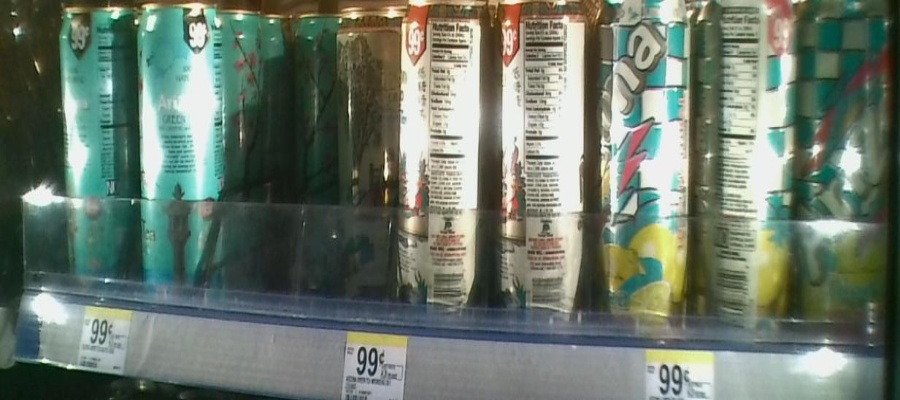bottle: (488, 1, 593, 329), (799, 1, 896, 349), (698, 5, 796, 345), (598, 4, 696, 342), (139, 3, 230, 313), (400, 6, 485, 324), (57, 1, 134, 306), (339, 5, 398, 317), (281, 3, 338, 319)
